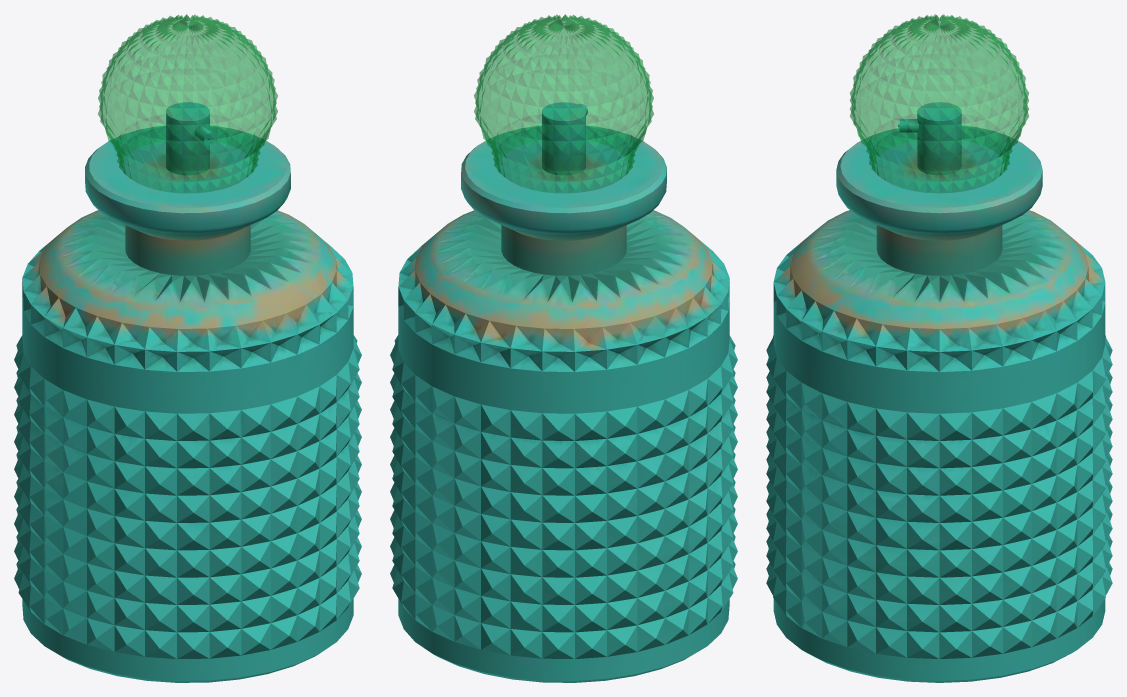
Rendered from perfume-mobile-opt.glb.
3 views of the same model, side by side, from view 1: azimuth 30°, elevation 25°; view 2: azimuth 150°, elevation 25°; view 3: azimuth 270°, elevation 25° (orthographic).
Visible parts, largest first — view 1: Cylinder_Material.001_0, Sphere_Material.003_0; view 2: Cylinder_Material.001_0, Sphere_Material.003_0; view 3: Cylinder_Material.001_0, Sphere_Material.003_0.
Part boxes in pixels (bbox=[...]): Cylinder_Material.001_0: bbox=[14, 102, 361, 682]; Sphere_Material.003_0: bbox=[98, 14, 277, 192]; Cylinder_Material.001_0: bbox=[390, 102, 737, 682]; Sphere_Material.003_0: bbox=[474, 14, 653, 192]; Cylinder_Material.001_0: bbox=[766, 102, 1112, 682]; Sphere_Material.003_0: bbox=[850, 14, 1028, 192].
Size of the model in its own units: 0.3874 by 0.7317 by 0.3874.
Materials: 2 (2 with a texture image).
